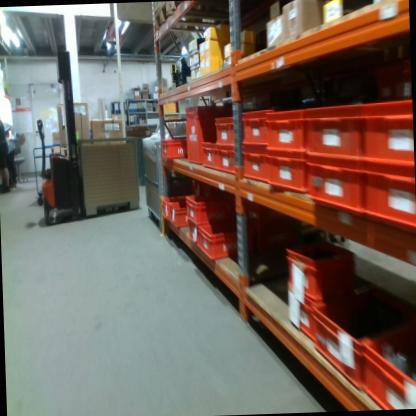pallet: (152, 3, 170, 32), (169, 1, 190, 15)
pallet_truck: (36, 40, 92, 226)
small_load_carrier: (315, 287, 416, 389), (285, 229, 359, 308), (308, 153, 365, 229), (365, 160, 416, 238), (362, 102, 415, 176), (305, 104, 362, 169), (365, 337, 416, 407), (187, 105, 235, 163), (198, 221, 262, 260), (185, 192, 250, 226), (266, 108, 306, 157), (267, 150, 307, 198), (285, 289, 317, 341), (241, 109, 268, 150), (242, 146, 268, 182), (163, 193, 193, 220), (214, 116, 236, 149), (218, 141, 238, 174), (162, 137, 187, 160), (203, 138, 219, 169), (170, 204, 187, 226), (187, 222, 199, 244)
stillage: (77, 134, 141, 218), (141, 134, 165, 234)
